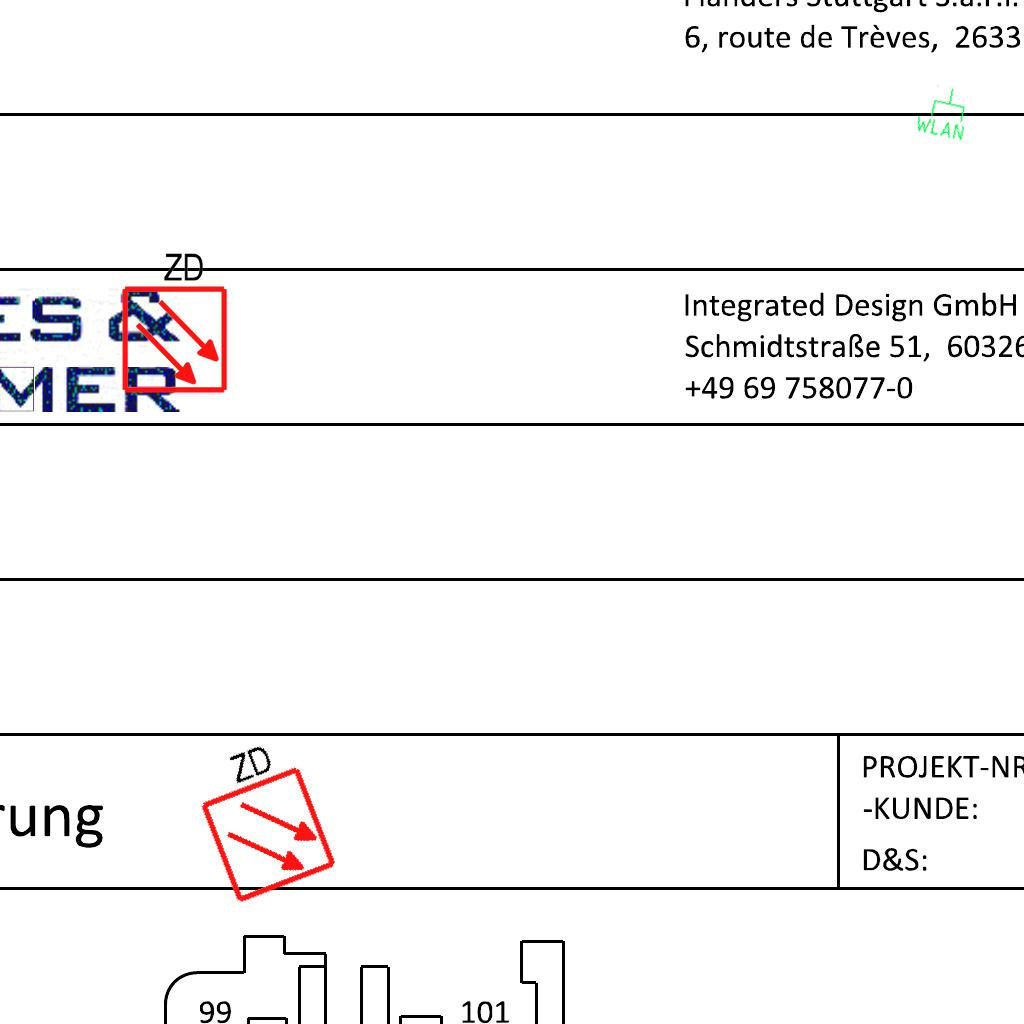WLAN: (912, 81, 974, 143)
ZD_Melder_in_Zwischendecke_mit_Revisionsoeffnung_mind_40_x_40_cm: (180, 727, 340, 908), (116, 246, 230, 395)
